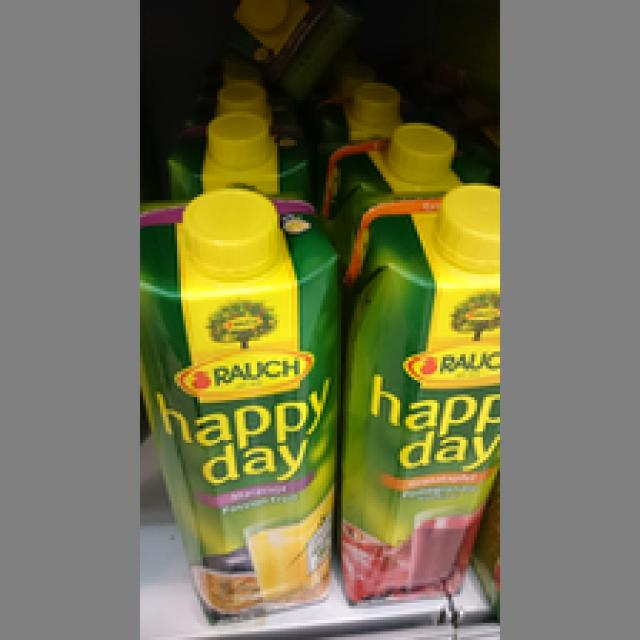groceries: (140, 189, 340, 617), (331, 180, 500, 603)
